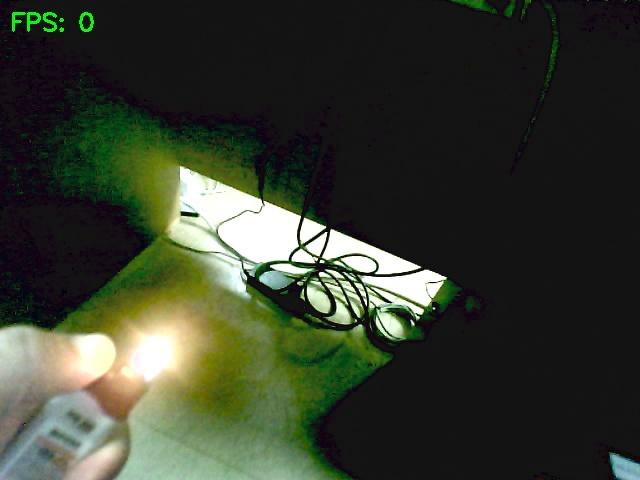fire: (132, 333, 176, 379)
smoke: (127, 332, 180, 372)
